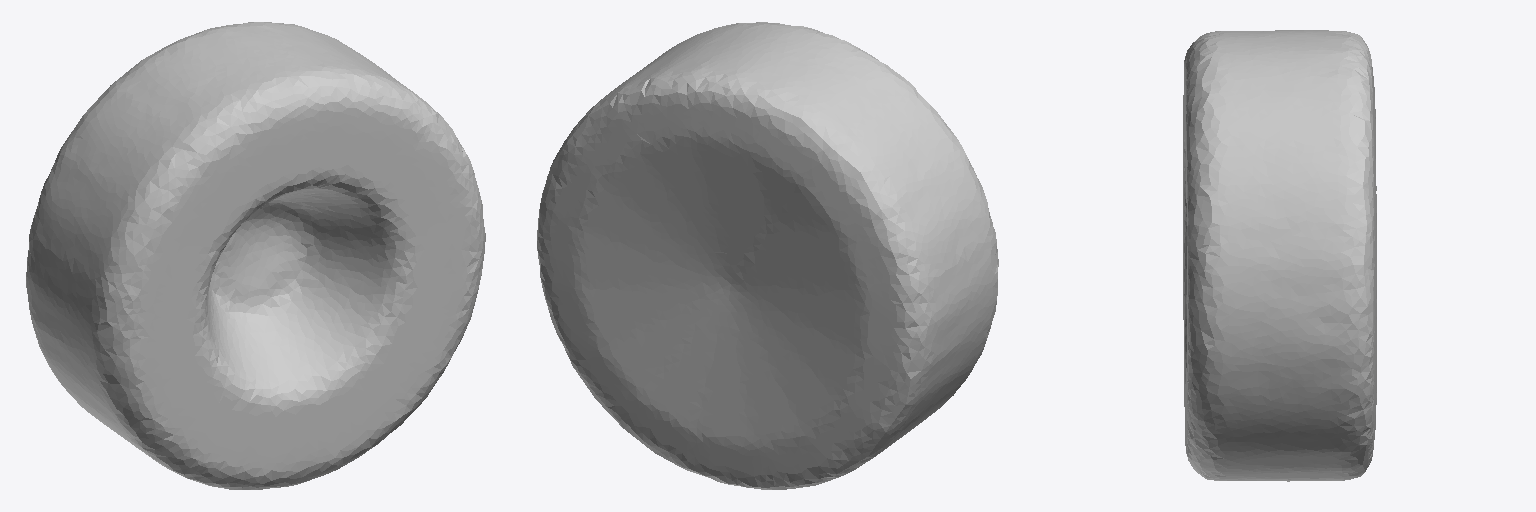
The model's file is Amulet_July_Lobe_16.obj.
The picture shows the model from 3 angles: view 1: azimuth 30°, elevation 25°; view 2: azimuth 150°, elevation 25°; view 3: azimuth 270°, elevation 25°; orthographic projection.
Bounding box in the file's own units: 16.04 × 16 × 6.88.